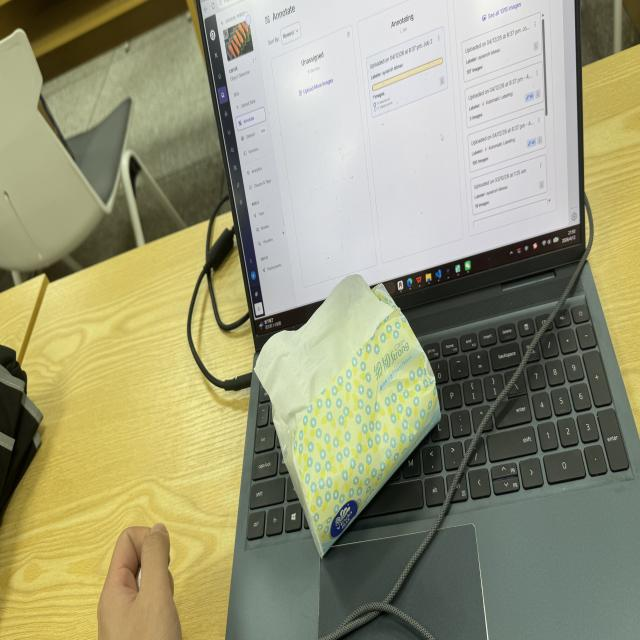tissue: (256, 276, 440, 556)
